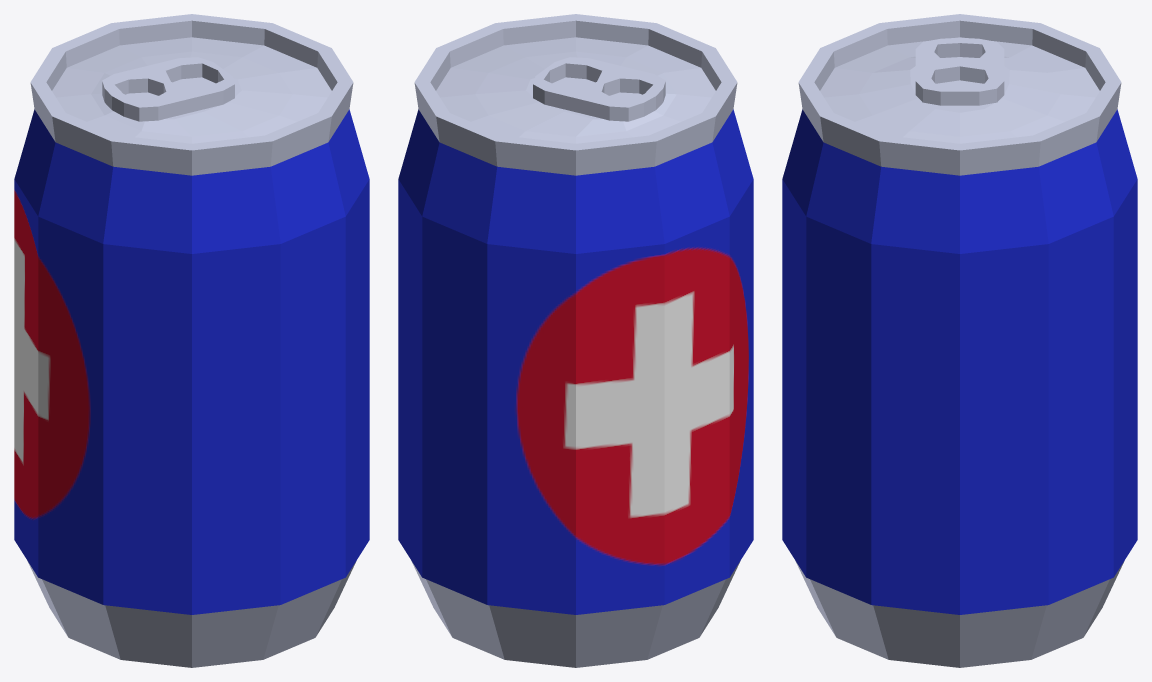
Rendered from can (1).fbx.
The picture shows the model from 3 angles, left to right: view 1: azimuth 30°, elevation 25°; view 2: azimuth 150°, elevation 25°; view 3: azimuth 270°, elevation 25°; orthographic projection.
Visible parts, largest first — view 1: Cylinder; view 2: Cylinder; view 3: Cylinder.
Part boxes in pixels (x1,y1,x2,y2): Cylinder: (14,14,369,667); Cylinder: (398,14,753,667); Cylinder: (782,14,1137,667).
Size of the model in its own units: 200 by 330 by 200.
Materials: 1 (1 with a texture image).
